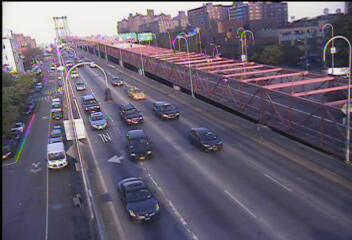neg: (240, 171, 271, 213), (73, 41, 102, 80), (164, 129, 192, 167), (54, 115, 81, 150), (122, 102, 147, 134), (224, 112, 246, 140), (191, 22, 211, 49), (269, 66, 287, 90), (278, 141, 296, 164), (88, 162, 105, 185), (155, 36, 171, 58), (128, 180, 144, 201), (117, 28, 129, 45)
